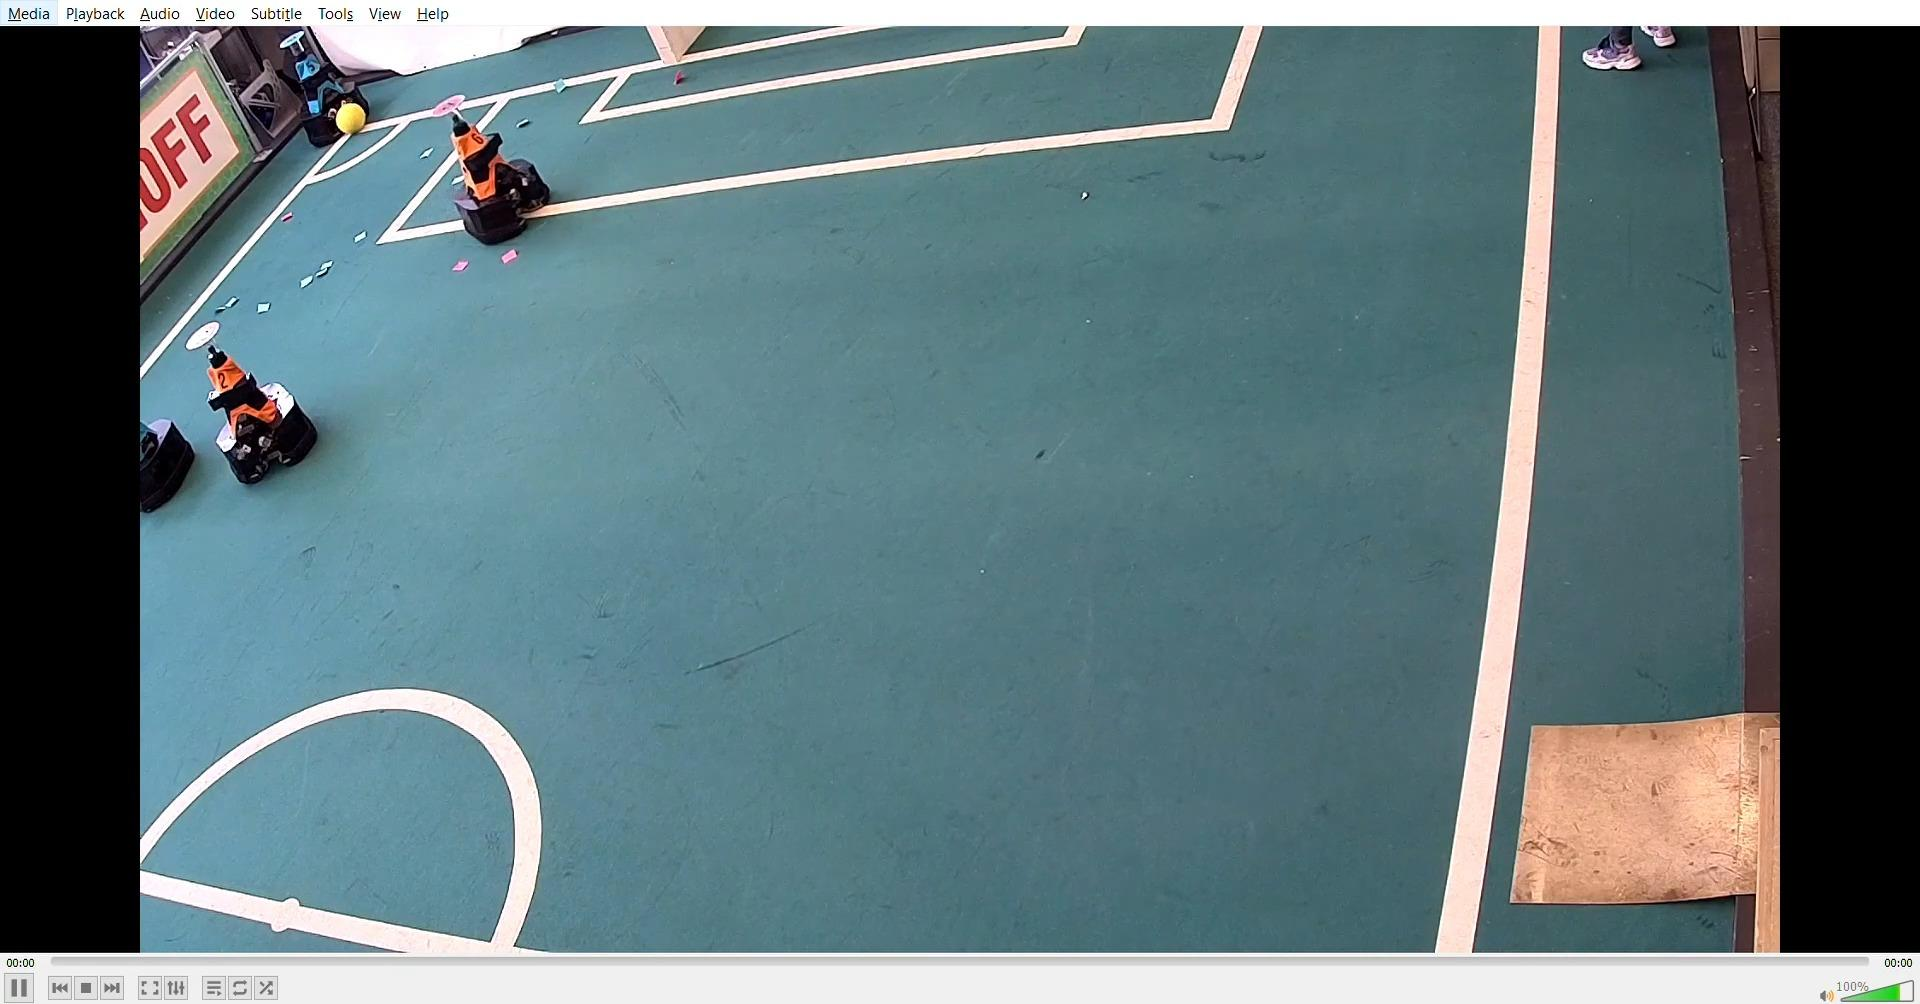Ball: (316, 98, 375, 133)
Team_Blue: (273, 33, 378, 156)
Team_Red: (184, 322, 324, 487), (434, 90, 559, 251)
